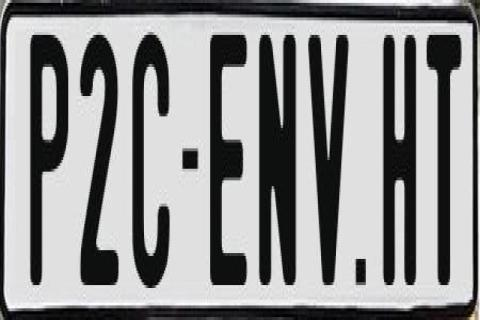0: (78, 35, 117, 299)
C: (132, 32, 176, 288)
E: (208, 26, 245, 276)
H: (382, 26, 421, 294)
N: (260, 32, 302, 288)
P: (28, 35, 68, 303)
T: (427, 26, 463, 294)
V: (308, 35, 354, 303)
